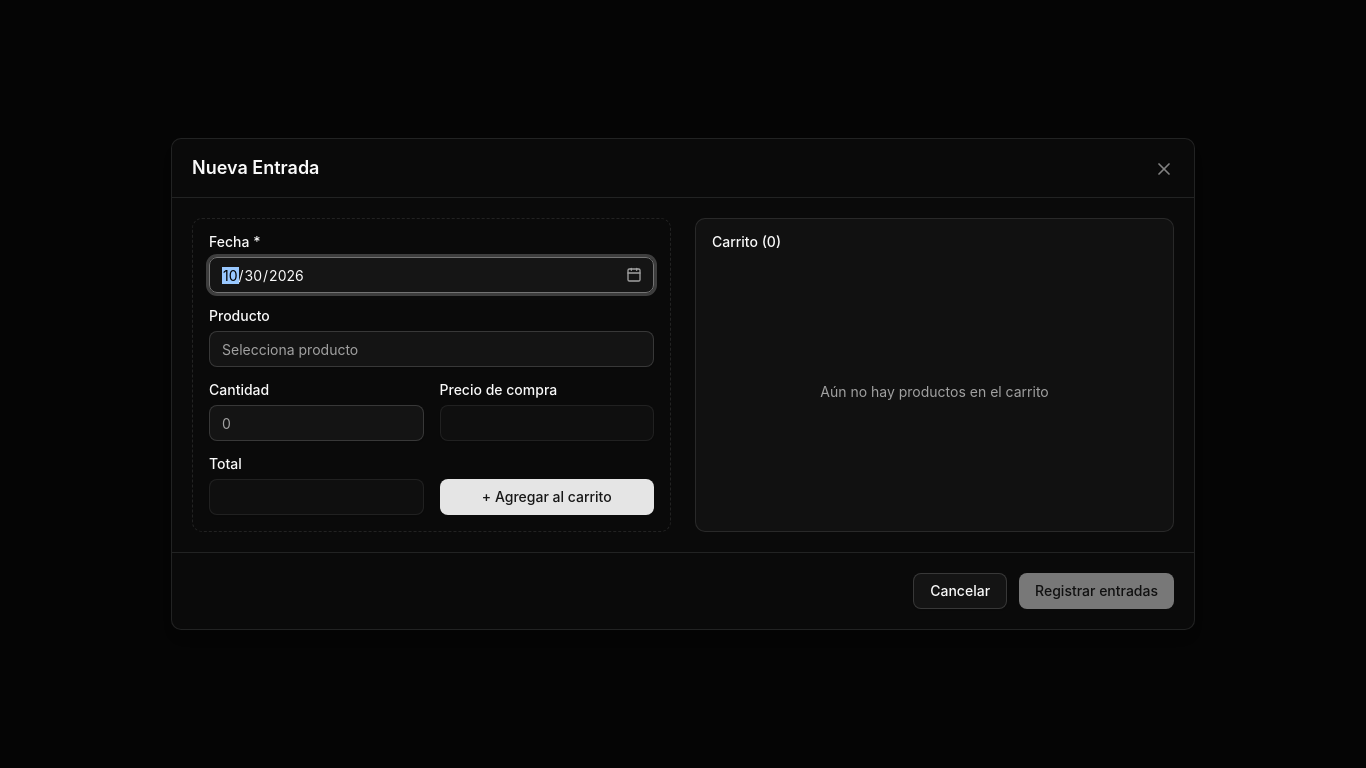
Scenario: ModalEntries › muestra el error de validación en el modal, no con window.alert
Click the button "+ Agregar al carrito" at (547, 497), box [440,479,654,515]
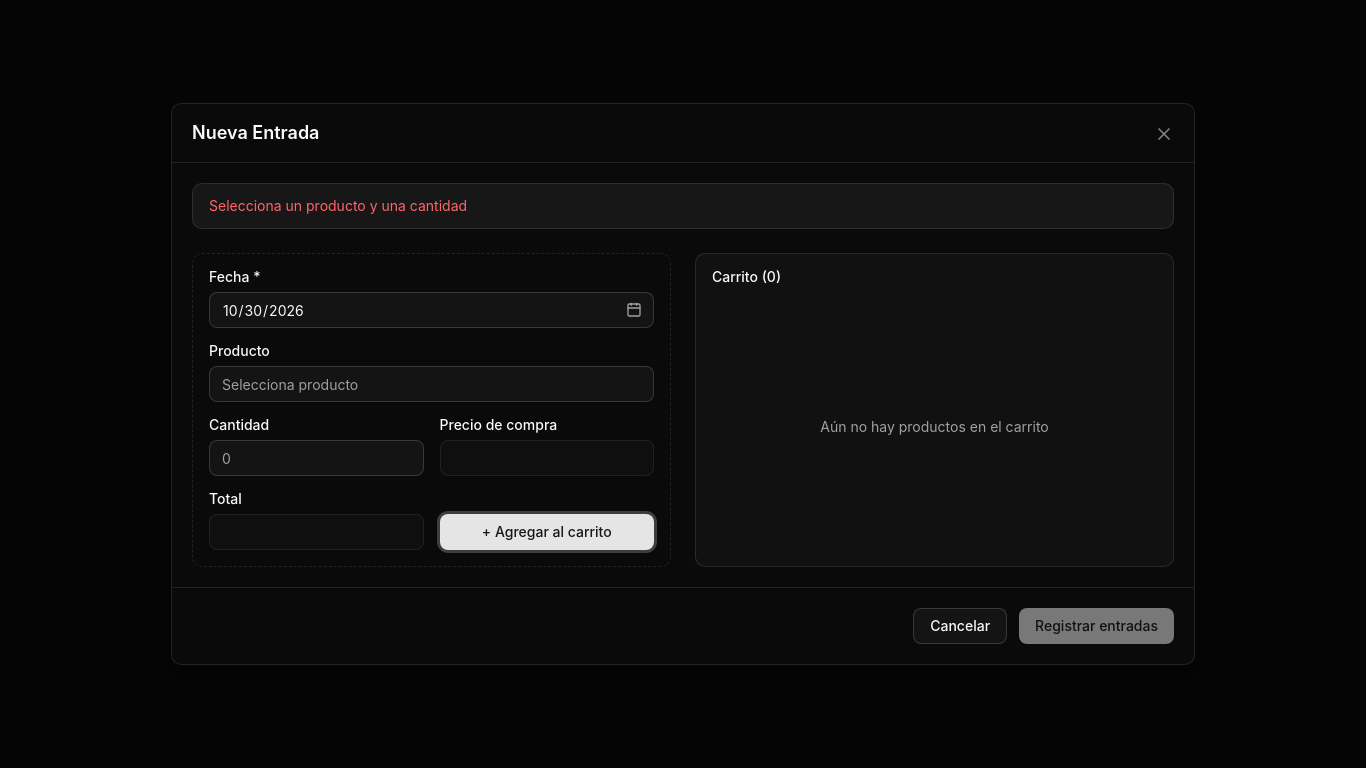
Expected: the message reads "Selecciona un producto y una cantidad", [209,197,467,214]
